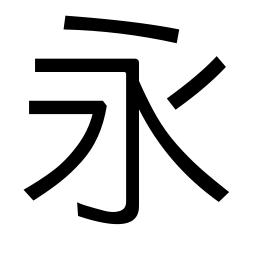D: (61, 13, 181, 47)
HSZ: (111, 54, 145, 85)
Hs: (32, 55, 69, 76)
Ne: (199, 173, 234, 206)
PNc: (141, 91, 189, 125)
PZe: (20, 170, 64, 203)
Ps: (197, 53, 230, 83)
SG: (73, 192, 143, 228)
Sm: (120, 128, 143, 172)
TPZ: (77, 97, 109, 136)
Ts: (24, 97, 57, 117)
